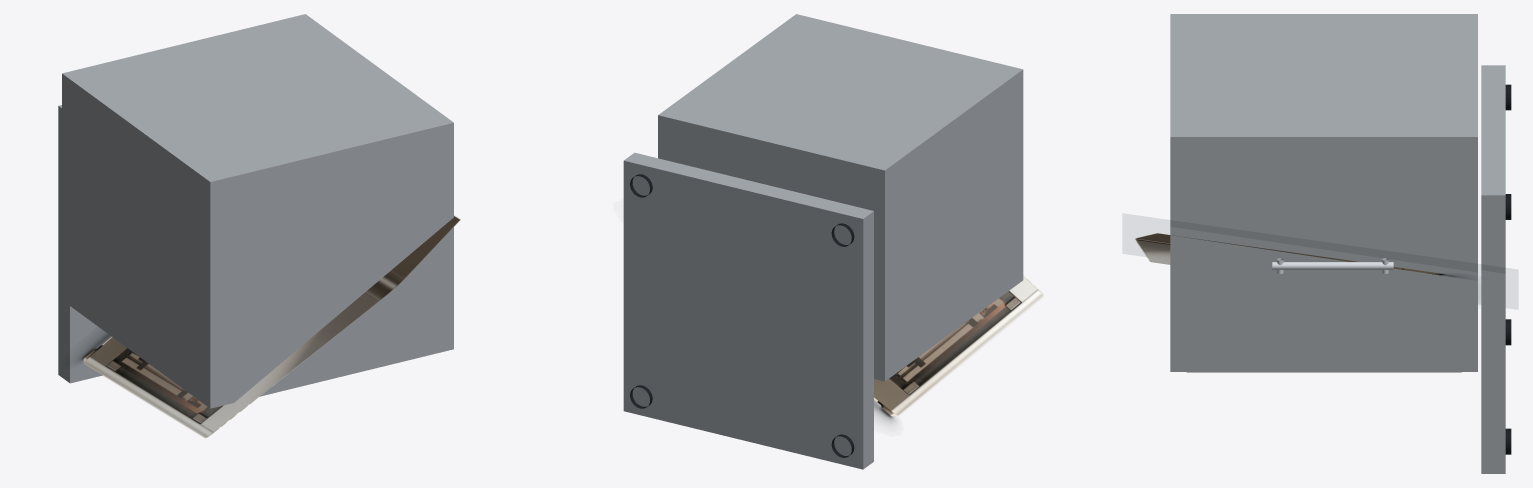
File: deltrol_p2s_optimized.glb
3 views of the same model, side by side, from view 1: azimuth 30°, elevation 25°; view 2: azimuth 150°, elevation 25°; view 3: azimuth 270°, elevation 25° (orthographic). The views are drawn at different scales.
Parts seen in each view (by area): view 1: chassis_depth_backing, reflocked_hero_billboard, base_plinth_ground; view 2: chassis_depth_backing, base_plinth_ground, reflocked_hero_billboard; view 3: chassis_depth_backing, base_plinth_ground, reflocked_hero_billboard, door_handle.
Boxes of the visible parts, x1,y1,x2,y2 form: chassis_depth_backing: (62,14,453,408); reflocked_hero_billboard: (76,215,460,438); base_plinth_ground: (58,105,111,383); chassis_depth_backing: (658,14,1023,381); base_plinth_ground: (623,152,873,469); reflocked_hero_billboard: (874,275,1043,422); chassis_depth_backing: (1170,14,1477,371); base_plinth_ground: (1481,65,1505,473); reflocked_hero_billboard: (1135,233,1466,278); door_handle: (1272,262,1393,269).
Bounding box in the file's own units: 0.557 × 0.443 × 0.4911.
8 materials, 8 textured.
